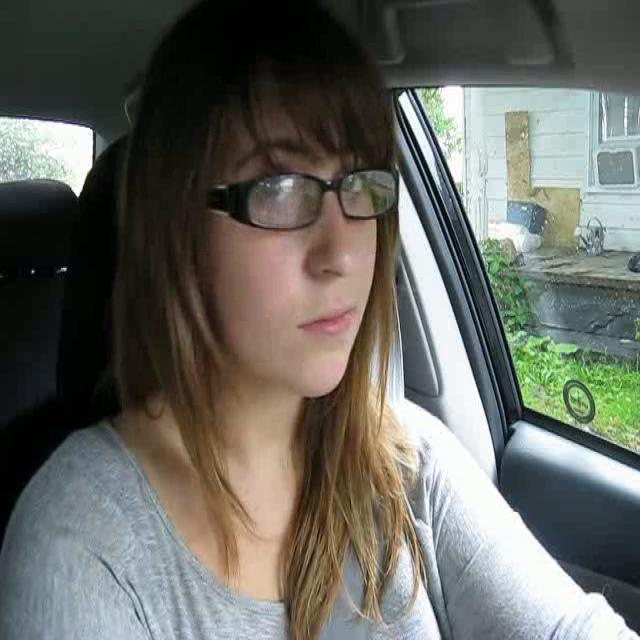close: (291, 299, 360, 339)
